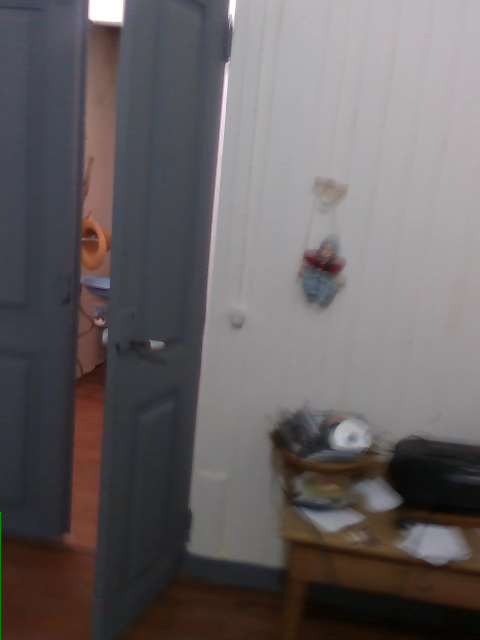semi: (0, 0, 228, 639)
